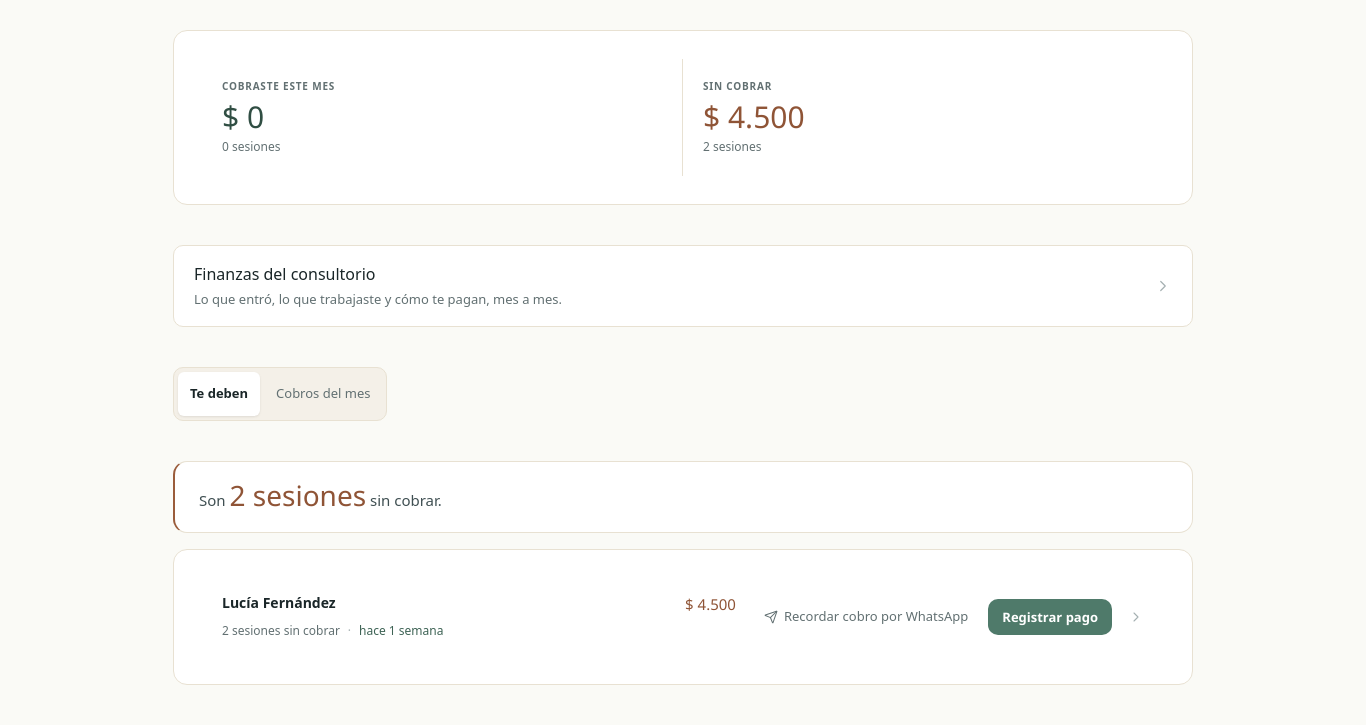
Scenario: Te deben: la plantilla del aviso de cobro › sin plantilla guardada sale el texto de siempre
(page scrolled)
What coordinates should you click on to do the following:
click the button "Recordar cobro por WhatsApp"
I would click on:
 (866, 617)
Its box is [752,599,980,635].
(page scrolled)
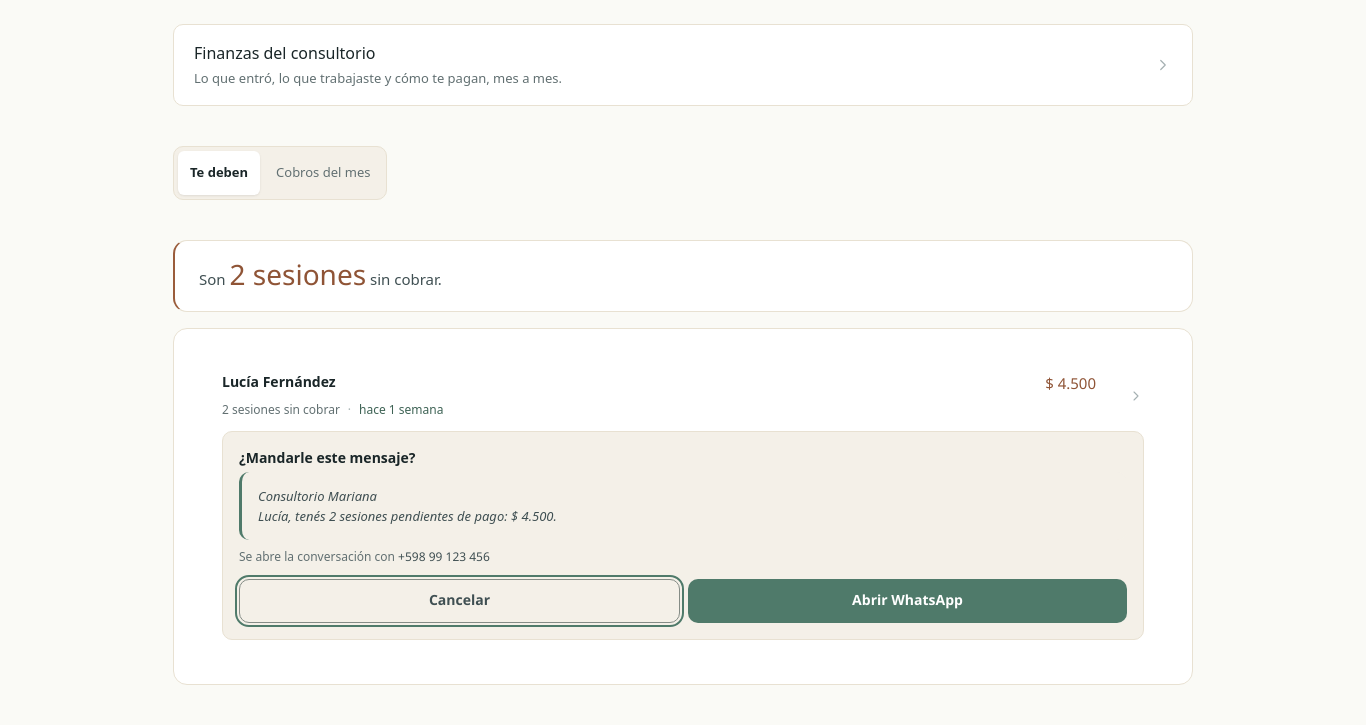
Expected: the text "¿Mandarle este mensaje?" is shown, [239,448,416,467]
Expected: the text "Lucía, tenés 2 sesiones pendientes de pago: $ 4.500." is shown, [258,487,557,525]
